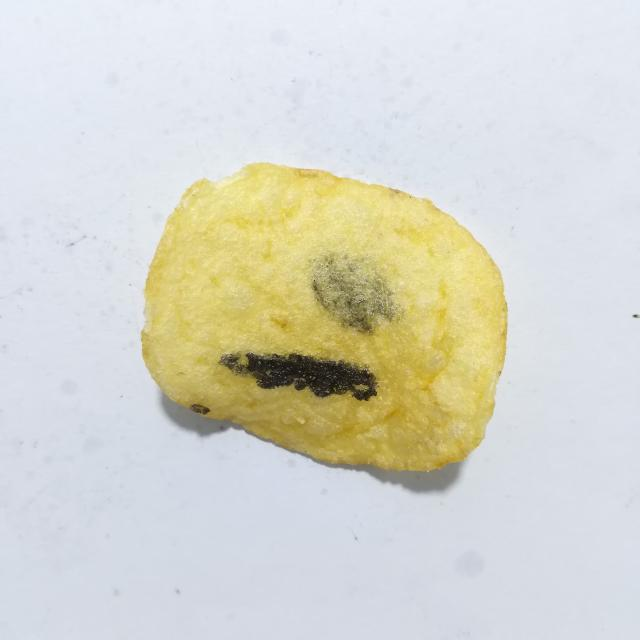chip: (142, 164, 507, 471)
damaged: (219, 353, 377, 401), (189, 404, 210, 415)
semi-damaged: (311, 252, 396, 332)
